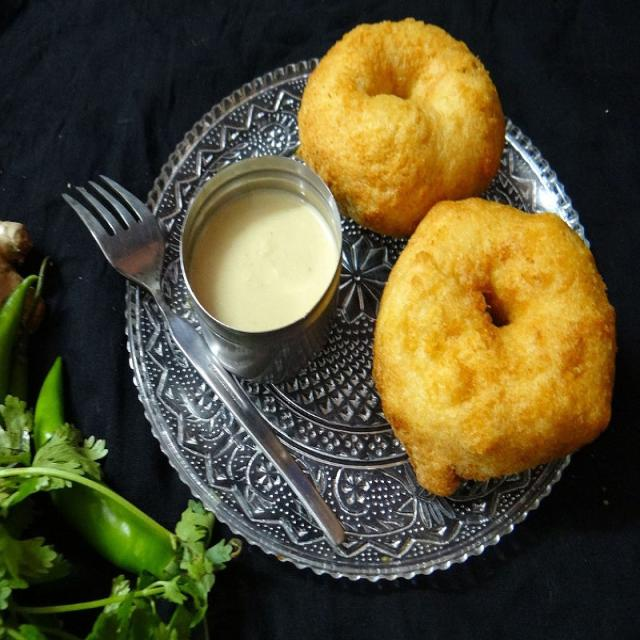MEDU VADA: (367, 194, 621, 503), (294, 20, 502, 240)
